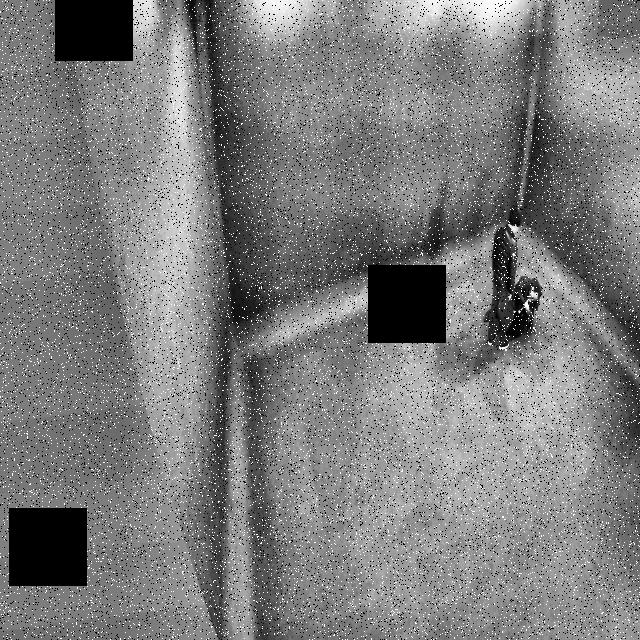assult: (480, 203, 546, 356)
